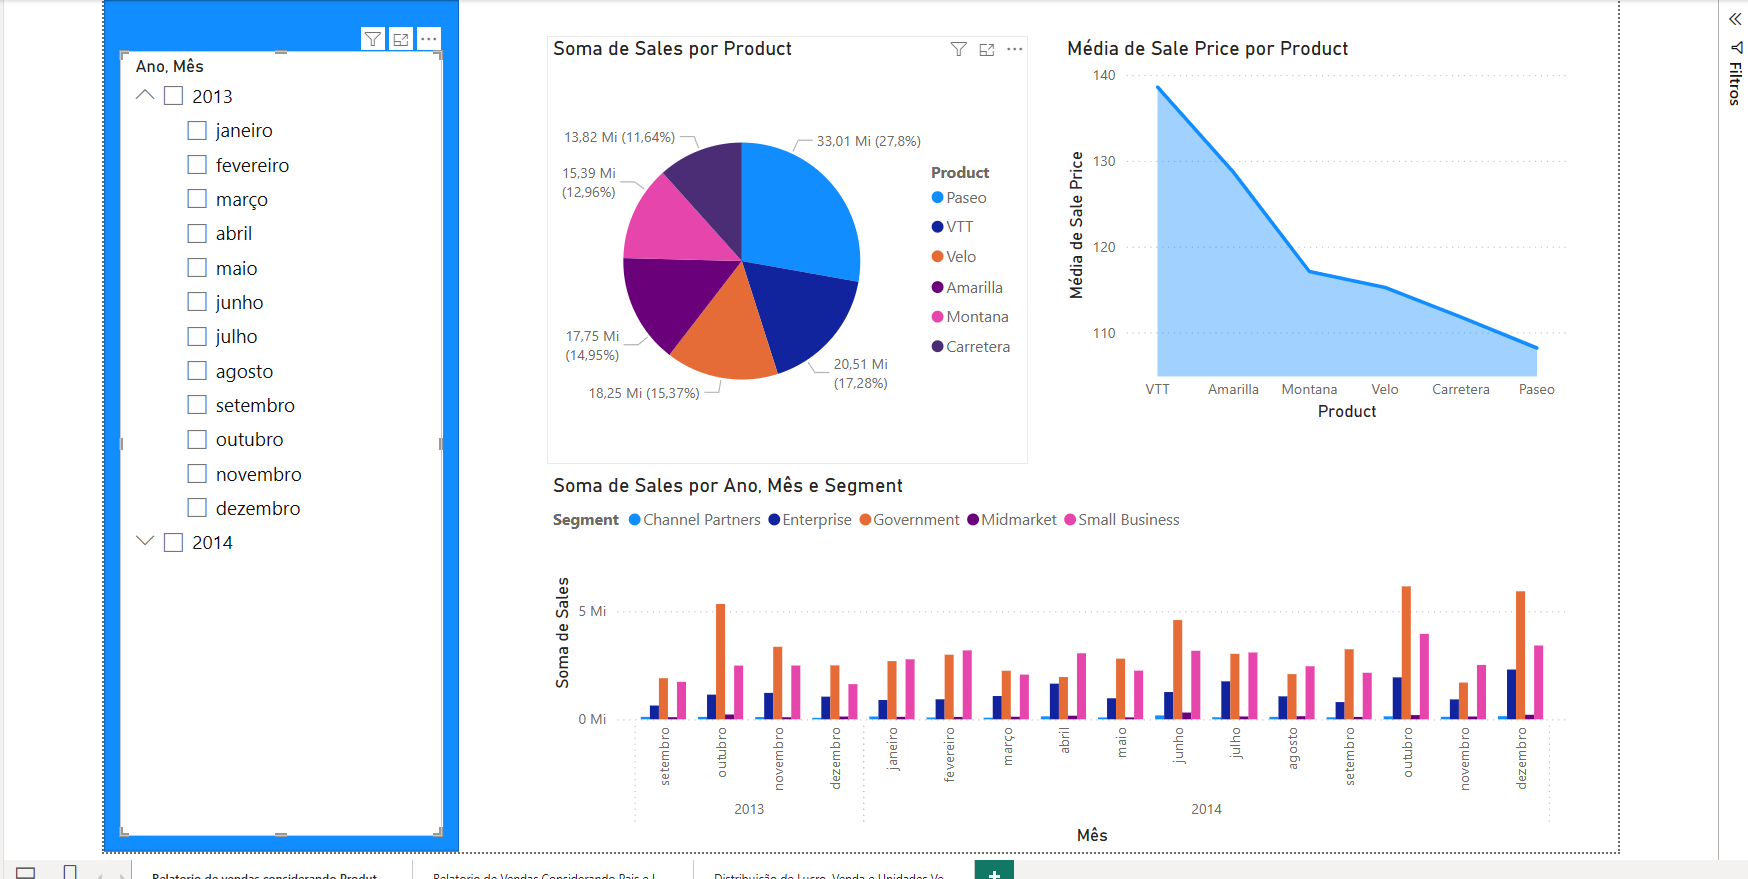

What the dashboard file says about the page in this screenshot:
{"tool":"powerbi","page":{"name":"Relatorio de vendas considerando Produtos e segmento","canvas":[1280,720],"ordinal":0},"visuals":[{"type":"pieChart","fields":{"Y":["Sum(financials. Sales)"],"Category":["financials.Product"]},"box":[374.6,30.6,406.3,361.3],"z":0},{"type":"stackedAreaChart","fields":{"Y":["Avg(financials.Sale Price)"],"Category":["financials.Product"]},"box":[808.4,30.6,432.8,329.7],"z":2000},{"type":"clusteredColumnChart","fields":{"Y":["Sum(financials. Sales)"],"Category":["financials.Date.Variation.Hierarquia de datas.Ano","financials.Date.Variation.Hierarquia de datas.Mês"],"Series":["financials.Segment"]},"box":[374.6,400.1,866.6,319.5],"z":3000},{"type":"slicer","fields":{"Values":["financials.Date.Variation.Hierarquia de datas.Ano","financials.Date.Variation.Hierarquia de datas.Mês"]},"box":[13.3,42.9,272.5,663.5],"z":4000},{"type":"shape","box":[0,0,300.1,719.6],"z":4001}]}

Visuals, with their boxes on the page's 1280x720 design canvas (x1, y1, x2, y2). These are canvas units, not pixel positions in the 1748x879 screenshot, which may show the page scaled, cropped or inside an application window:
pieChart - Sum(financials. Sales) x financials.Product: 375,31,781,392
stackedAreaChart - Avg(financials.Sale Price) x financials.Product: 808,31,1241,360
clusteredColumnChart - Sum(financials. Sales) x financials.Date.Variation.Hierarquia de datas.Ano: 375,400,1241,720
slicer - financials.Date.Variation.Hierarquia de datas.Ano x financials.Date.Variation.Hierarquia de datas.Mês: 13,43,286,706
shape: 0,0,300,720
